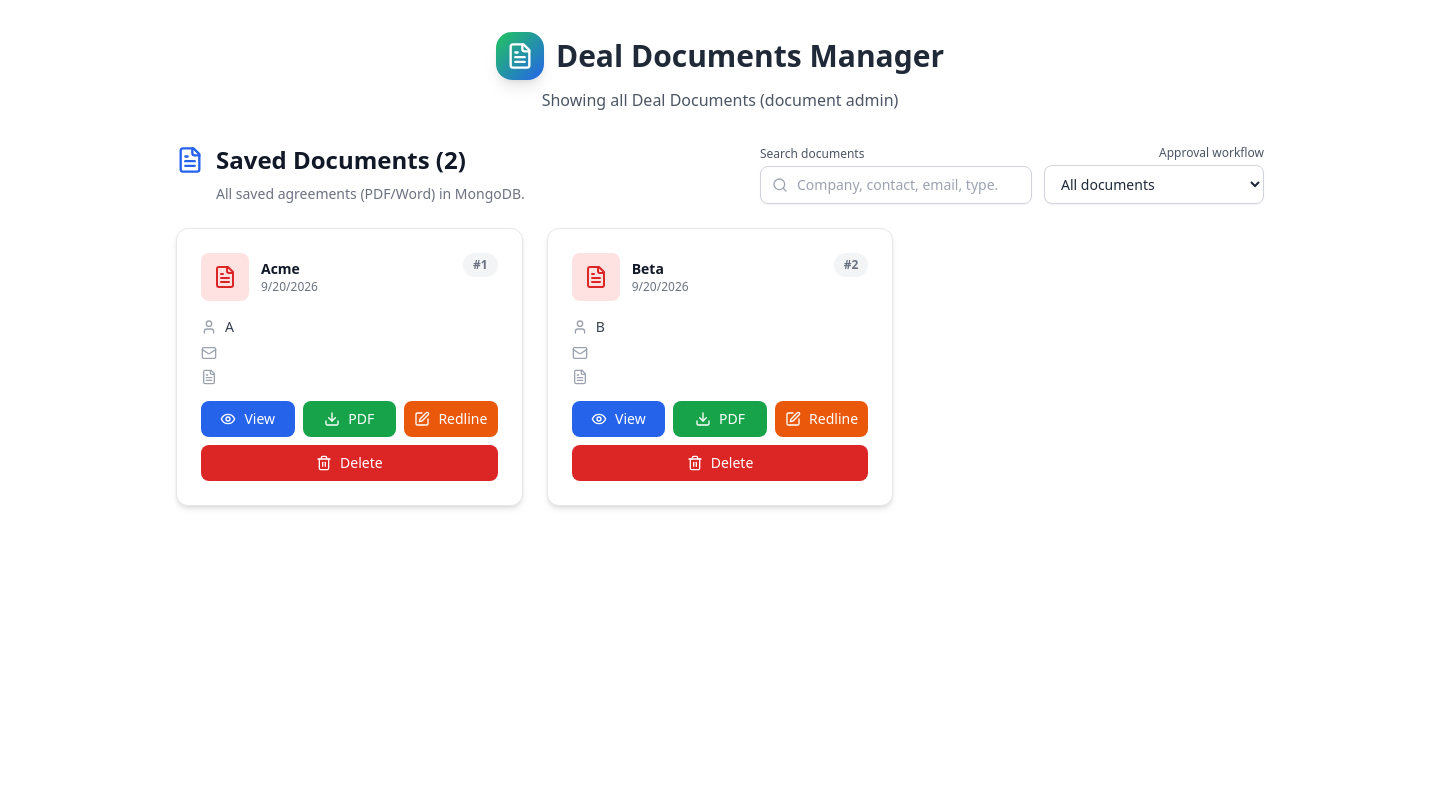
Test: Documents page Delete button › warns when the document is linked to approvals and e-sign agreements
expect the heading "Saved Documents (2)" is shown: met, box [176,143,466,176]
Click the button "Delete" below "Acme".
click(349, 463)  # box [201,445,498,481]
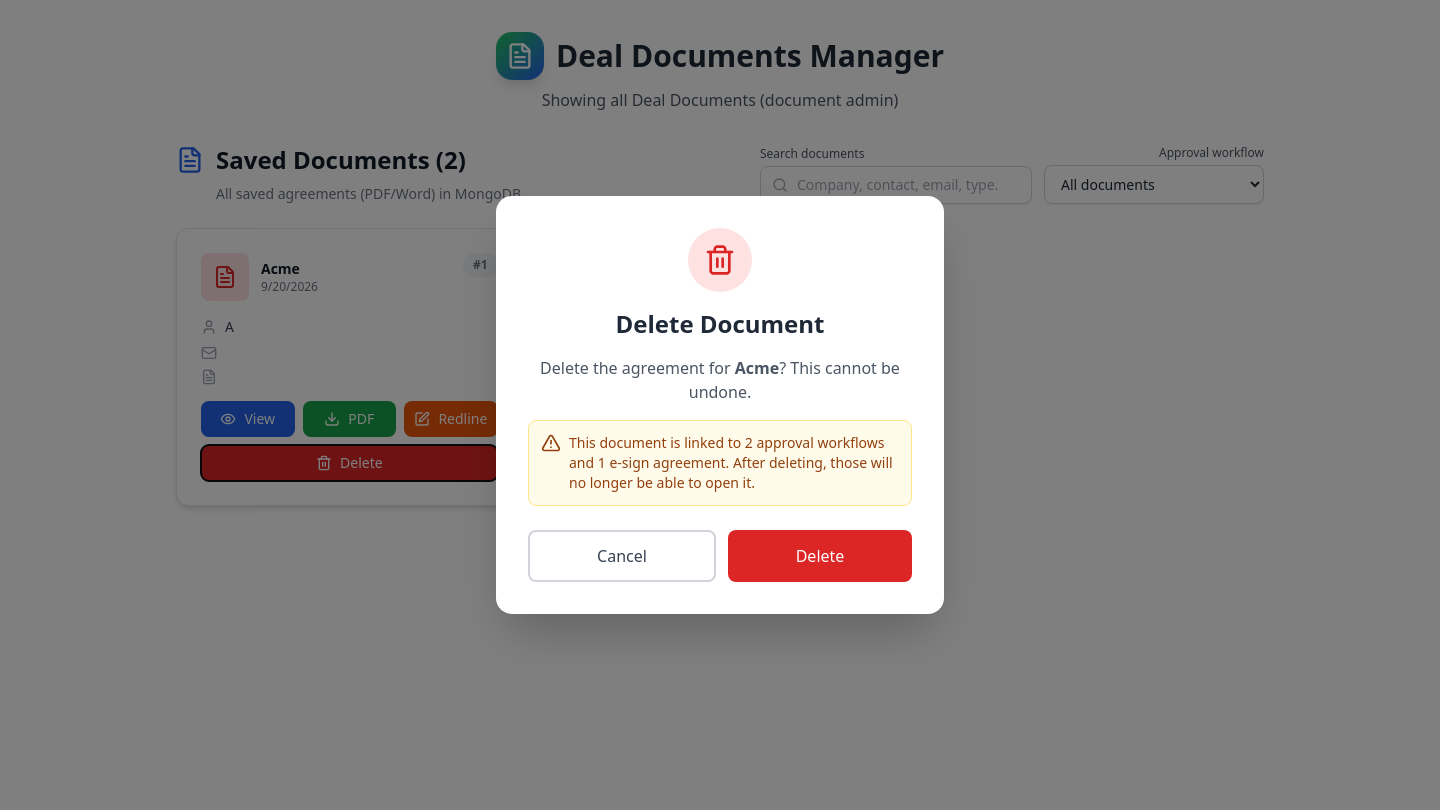
expect the text "linked to 2 approval workflows and 1 e-sign agreement" is shown: met, box [569,433,899,493]
